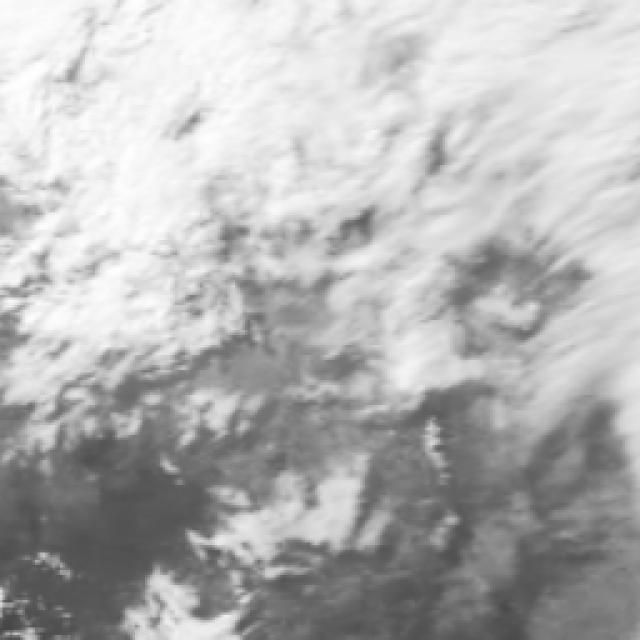CB: (103, 0, 299, 143), (417, 6, 640, 130), (268, 0, 451, 146), (44, 120, 212, 275), (0, 0, 140, 168)
